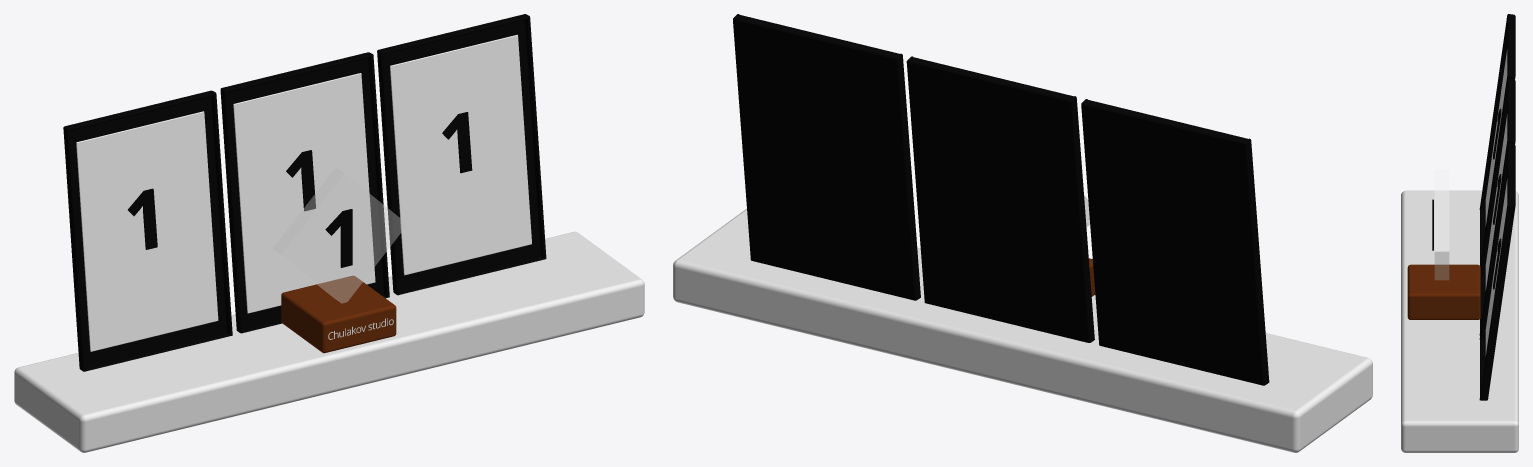
File: diplomaStand.glb
The picture shows the model from 3 angles, left to right: view 1: azimuth 30°, elevation 25°; view 2: azimuth 150°, elevation 25°; view 3: azimuth 270°, elevation 25°; orthographic projection. The views are drawn at different scales.
Visible parts, largest first — view 1: Box 3 (×3), Box, Box 1 (×3), Box 5, Box 4, Box 7 (×3), Box 6 (×3), Box 9 (×3), Box 8 (×2), place 1 - 1, place 2 - 1, place 3 - 1 (+1 smaller); view 2: Box 1 (×3), Box, Box 7 (×3), Box 9 (×3); view 3: Box, Box 4, Box 7 (×3), Box 6 (×3), Box 3 (×3), Box 5, Box 9 (×3), Box 1 (×3), Box 8 (×3), place 1 - 1, place 2 - 1, place 3 - 1.
Part boxes in pixels (x1=…): Box 3 (×3): x1=76, y1=34, x2=531, y2=351; Box: x1=14, y1=231, x2=644, y2=452; Box 1 (×3): x1=63, y1=14, x2=540, y2=368; Box 5: x1=273, y1=167, x2=407, y2=303; Box 4: x1=281, y1=275, x2=396, y2=353; Box 7 (×3): x1=64, y1=50, x2=399, y2=371; Box 6 (×3): x1=211, y1=14, x2=546, y2=335; Box 9 (×3): x1=66, y1=15, x2=528, y2=130; Box 8 (×2): x1=86, y1=256, x2=544, y2=371; place 1 - 1: x1=442, y1=112, x2=472, y2=173; place 2 - 1: x1=286, y1=150, x2=315, y2=211; place 3 - 1: x1=128, y1=188, x2=157, y2=249; Box 1 (×3): x1=733, y1=17, x2=1265, y2=385; Box: x1=673, y1=208, x2=1372, y2=452; Box 7 (×3): x1=897, y1=53, x2=1269, y2=384; Box 9 (×3): x1=736, y1=14, x2=1247, y2=141; Box: x1=1401, y1=190, x2=1518, y2=452; Box 4: x1=1407, y1=264, x2=1480, y2=319; Box 7 (×3): x1=1479, y1=14, x2=1513, y2=339; Box 6 (×3): x1=1479, y1=74, x2=1513, y2=400; Box 3 (×3): x1=1485, y1=49, x2=1507, y2=355; Box 5: x1=1435, y1=169, x2=1448, y2=279; Box 9 (×3): x1=1507, y1=14, x2=1513, y2=204; Box 1 (×3): x1=1485, y1=14, x2=1515, y2=400; Box 8 (×3): x1=1480, y1=209, x2=1484, y2=395; place 1 - 1: x1=1493, y1=238, x2=1501, y2=289; place 2 - 1: x1=1493, y1=174, x2=1501, y2=224; place 3 - 1: x1=1493, y1=108, x2=1501, y2=159.
Size of the model in its own units: 0.3779 by 0.172 by 0.0808.
